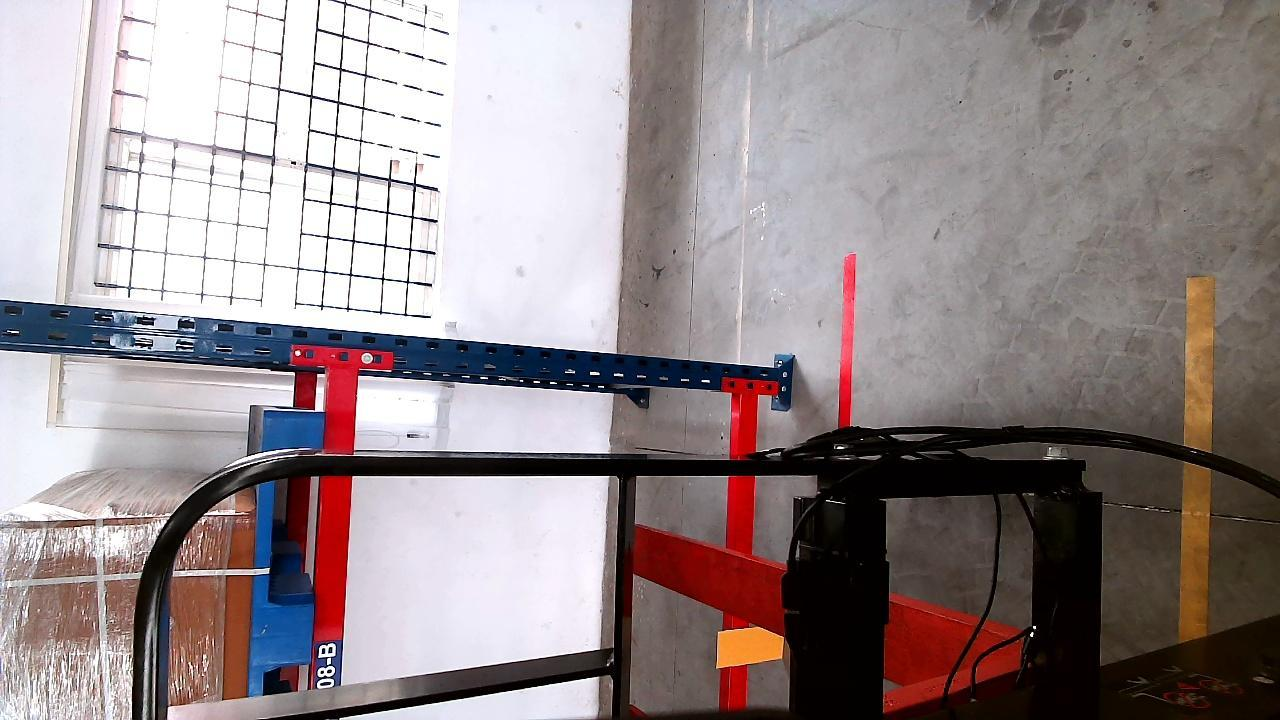red_line: (840, 257, 858, 424)
yellow_line: (1180, 258, 1213, 658)
